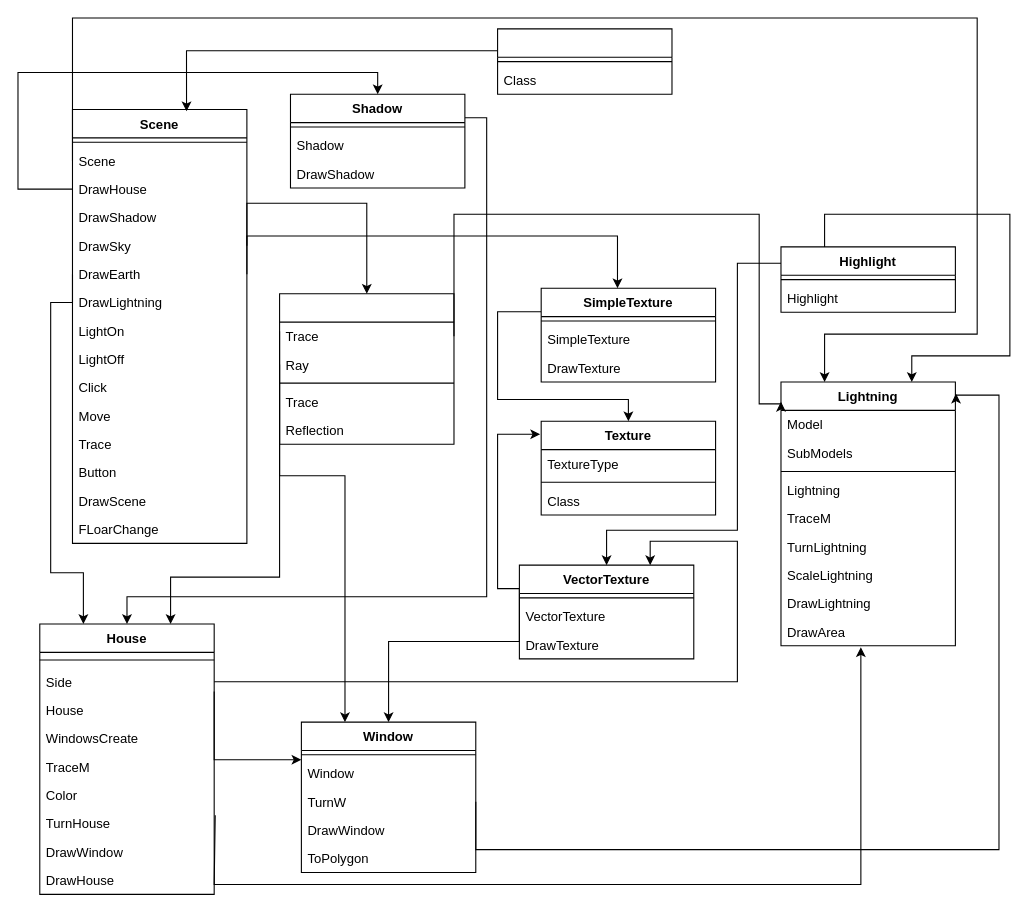
The diagram is 1028 pixels wide and 912 high, and some of its shapes have lost their labels. Here are the shapes that lost their labels. From the top down, the box of each, then its label:
(496, 28, 672, 94): Form
(278, 293, 454, 444): RayTracer
